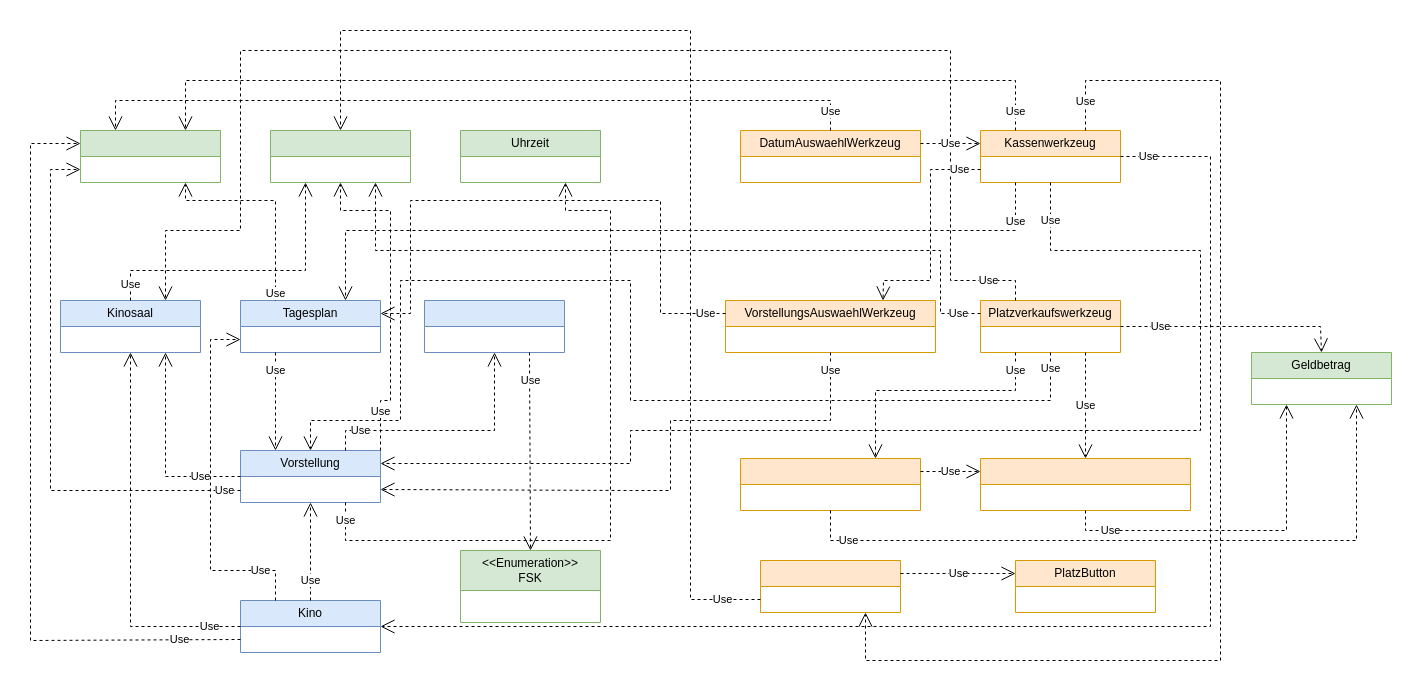
The diagram is 1409 pixels wide and 692 high, and some of its shapes have lost their labels. Here are the shapes that lost their labels. From the top down, the centre of each, then its label:
At (150,156): "Datum".
At (340,156): "Platz".
At (494,326): "Film".
At (830,484): "BarzahlungsWerkzeug".
At (1085,484): "ErfolgreicheBezahlungsWerkzeug".
At (830,586): "Platzplan".
